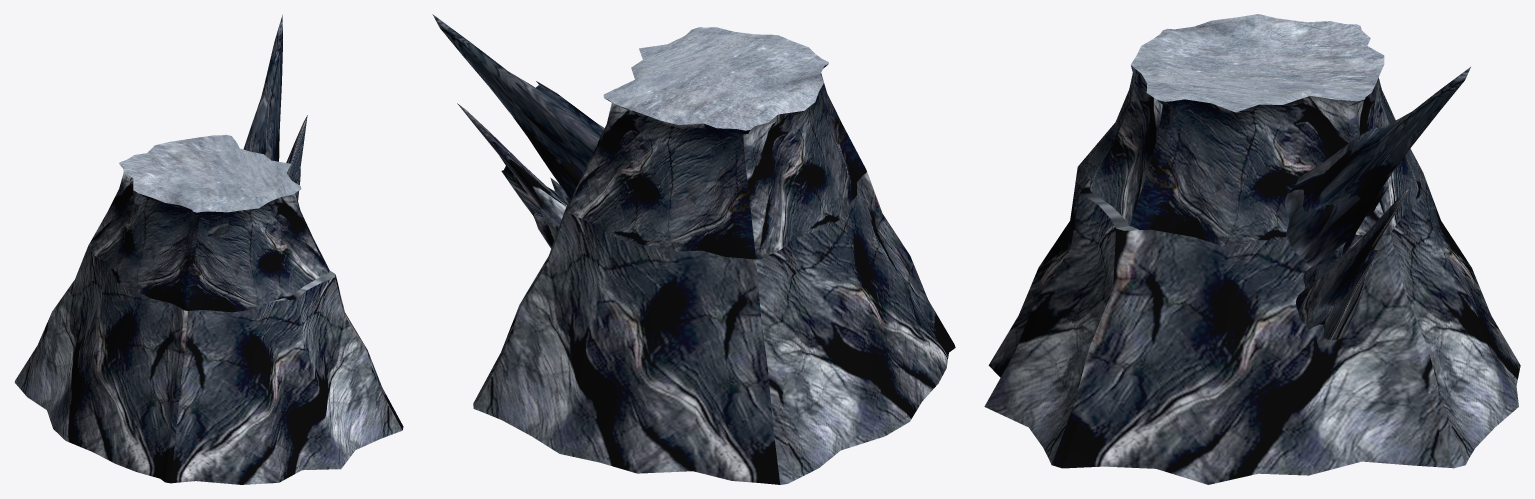
The model's file is map_Location1.fbx.
3 renders of one model, left to right at view 1: azimuth 30°, elevation 25°; view 2: azimuth 150°, elevation 25°; view 3: azimuth 270°, elevation 25°, orthographic. The views are drawn at different scales.
Visible parts, largest first — view 1: Cube, Plane, Plane.001; view 2: Cube, Plane, Plane.001; view 3: Cube, Plane, Plane.001.
Boxes of the visible parts, x1,y1,x2,y2 form: Cube: (14, 134, 403, 484); Plane: (243, 15, 282, 161); Plane.001: (286, 115, 307, 200); Cube: (473, 27, 955, 484); Plane: (432, 14, 604, 198); Plane.001: (457, 103, 570, 248); Cube: (984, 14, 1520, 484); Plane: (1285, 67, 1470, 266); Plane.001: (1296, 188, 1409, 340).
Bounding box in the file's own units: 3693 × 3588 × 4138.
